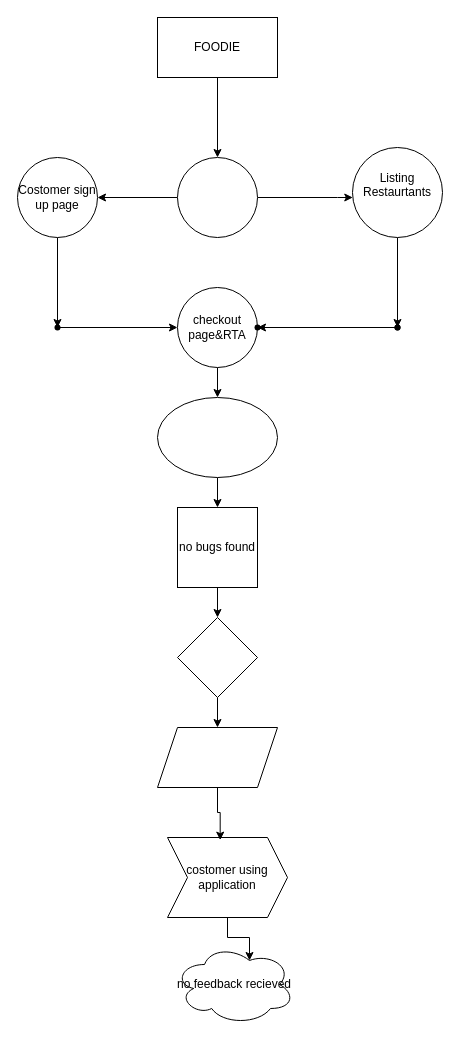
Some shapes in this 460 by 1042 pixel diagram are drawn without their labels. The box of each missing label's shape, as (x1, y1, x2, y2) in pixels:
compiling: (156, 396, 278, 478)
Design UI/UX: (176, 156, 258, 238)
pushing Apk to cloud / App store: (156, 726, 278, 788)
Writting permission for Deployment: (176, 616, 258, 698)
